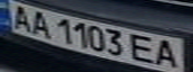0: (87, 24, 106, 53)
1: (51, 16, 75, 44), (69, 20, 90, 48)
3: (106, 27, 130, 58)
A: (151, 37, 184, 70), (6, 3, 36, 33), (27, 9, 54, 38)
E: (127, 33, 160, 64)
